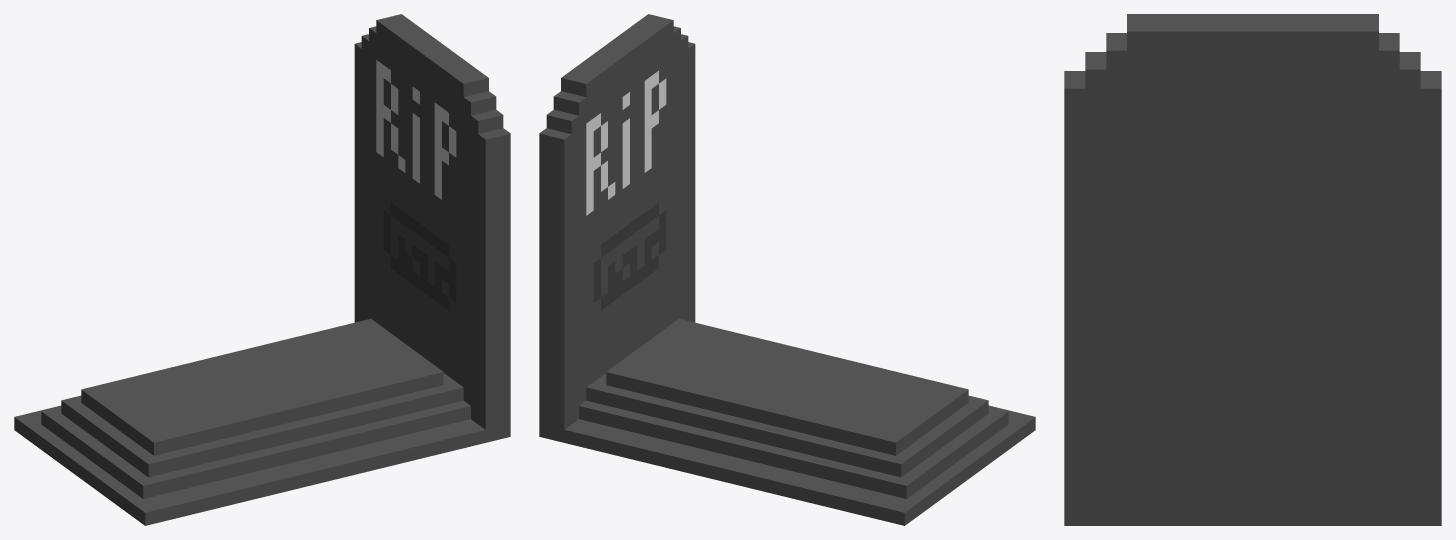
File: tumba3.glb
The picture shows the model from 3 angles, left to right: view 1: azimuth 30°, elevation 25°; view 2: azimuth 150°, elevation 25°; view 3: azimuth 270°, elevation 25°; orthographic projection. The views are drawn at different scales.
Size of the model in its own units: 2.9 by 2.6 by 1.8.
Materials: 1 (1 with a texture image).
